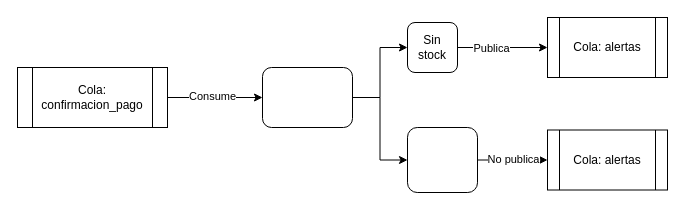
Some shapes in this 685 by 210 pixel diagram are drawn without their labels. The centre of each missing label's shape, as x and y in pixels:
"Gestion de Inventario" belongs at (307,97).
"stock disponible" belongs at (442,159).
